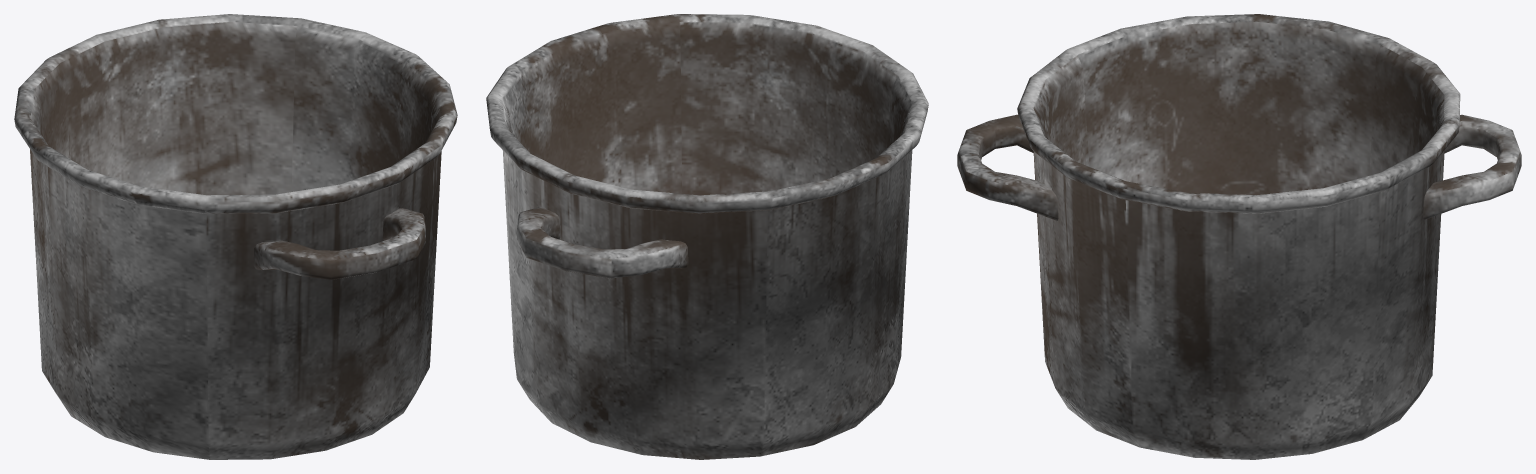
The model's file is SM_Pot_Kitchen.glb.
3 renders of one model, left to right at view 1: azimuth 30°, elevation 25°; view 2: azimuth 150°, elevation 25°; view 3: azimuth 270°, elevation 25°, orthographic.
Parts seen in each view (by area): view 1: SM_BIgPot_Kitchen; view 2: SM_BIgPot_Kitchen; view 3: SM_BIgPot_Kitchen.
Part boxes in pixels (box(x1,y1,x2,y2)): SM_BIgPot_Kitchen: box(14, 14, 457, 459); SM_BIgPot_Kitchen: box(486, 14, 928, 459); SM_BIgPot_Kitchen: box(957, 14, 1521, 459).
Size of the model in its own units: 0.2571 by 0.1834 by 0.3275.
1 material, 1 textured.
